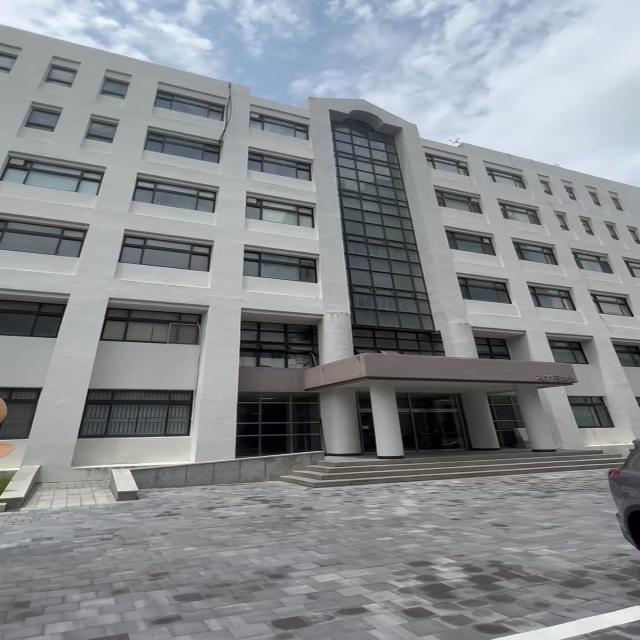building: (5, 65, 640, 467)
